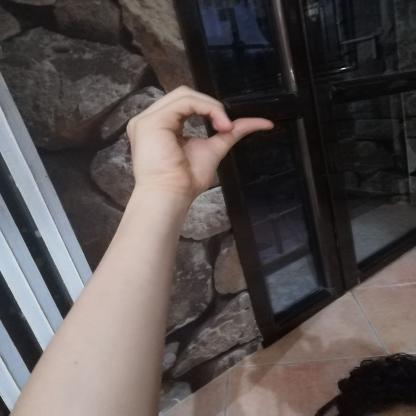WAW: (110, 74, 287, 207)
